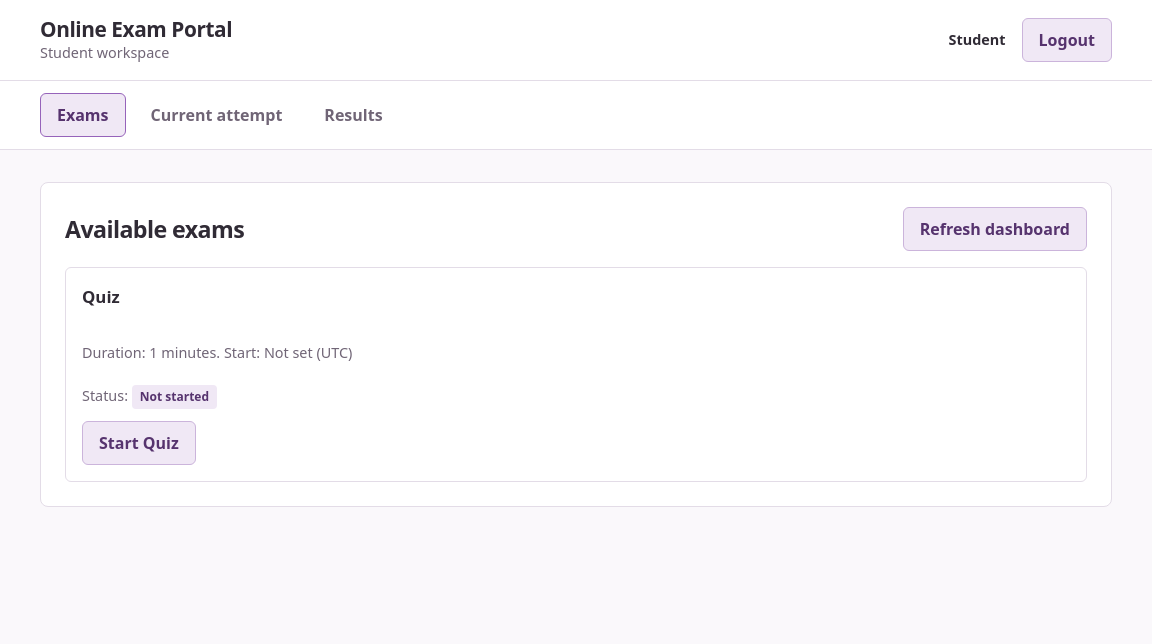
Student acceptance regressions #38 #40 #46 #47 › AC40-RETRY: failed selections are explicitly unsaved and can be retried without pretending they were acknowledged
Click the button "Start Quiz" at (139, 443), box [82, 421, 196, 465]
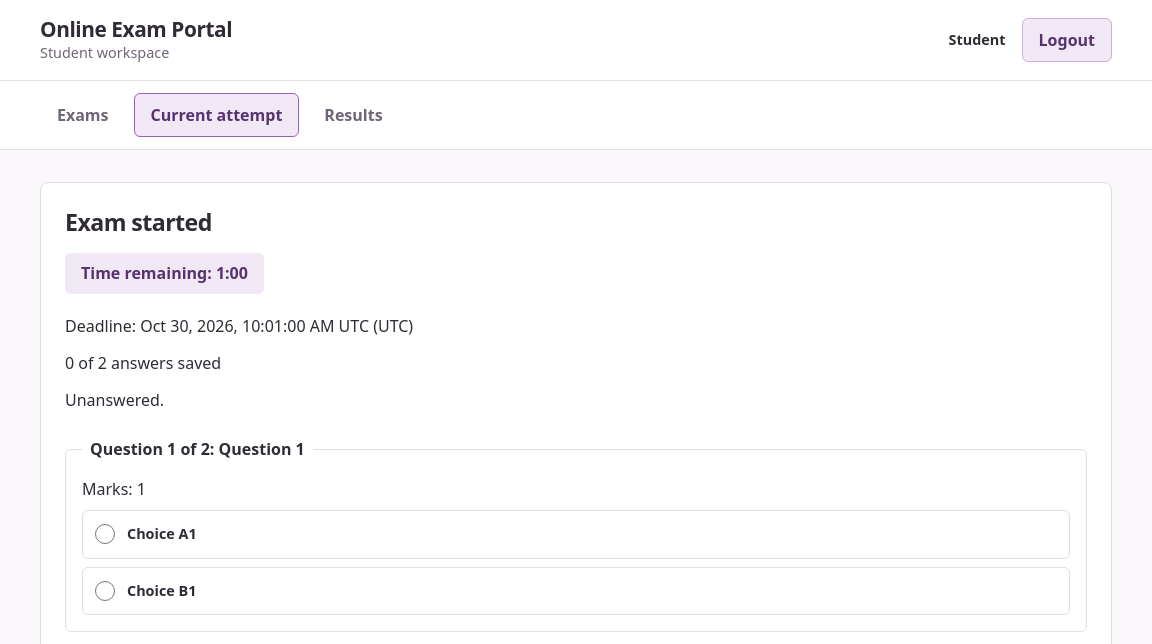
Result: the heading "Exam started" is shown at [65, 206, 212, 238]
Click the radio button labelled "Choice B1" at (105, 591), box [95, 581, 115, 601]
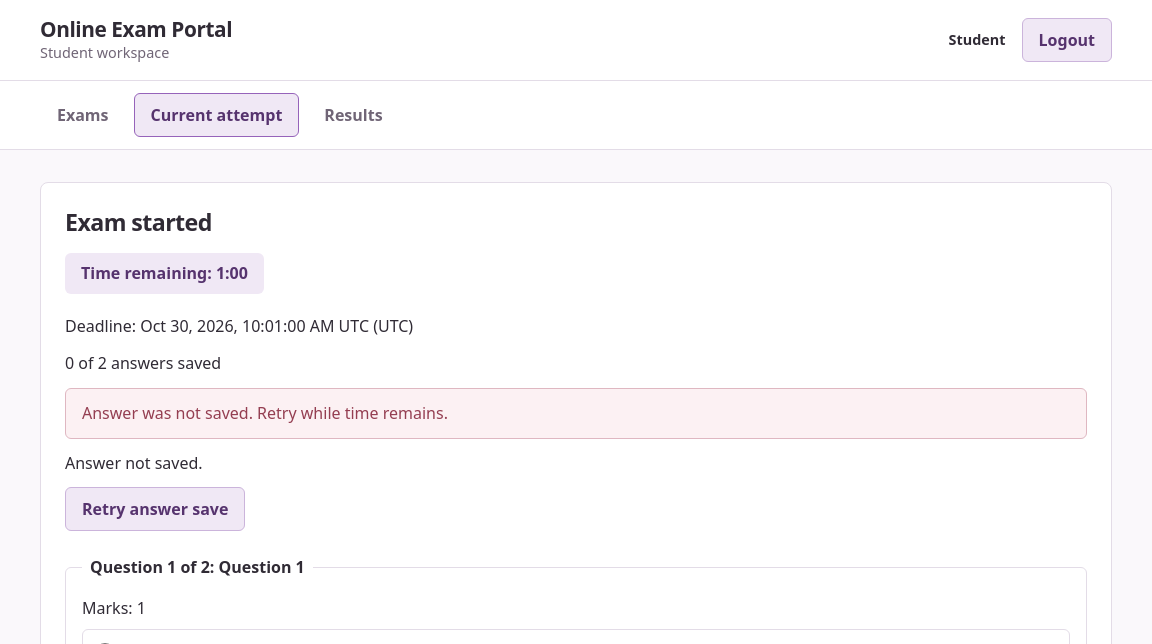
Expected: the text "Answer saved" is not shown
Result: the text "Answer not saved." is shown at [65, 452, 203, 474]
Click the button "Retry answer save" at (155, 510), box [65, 488, 245, 532]
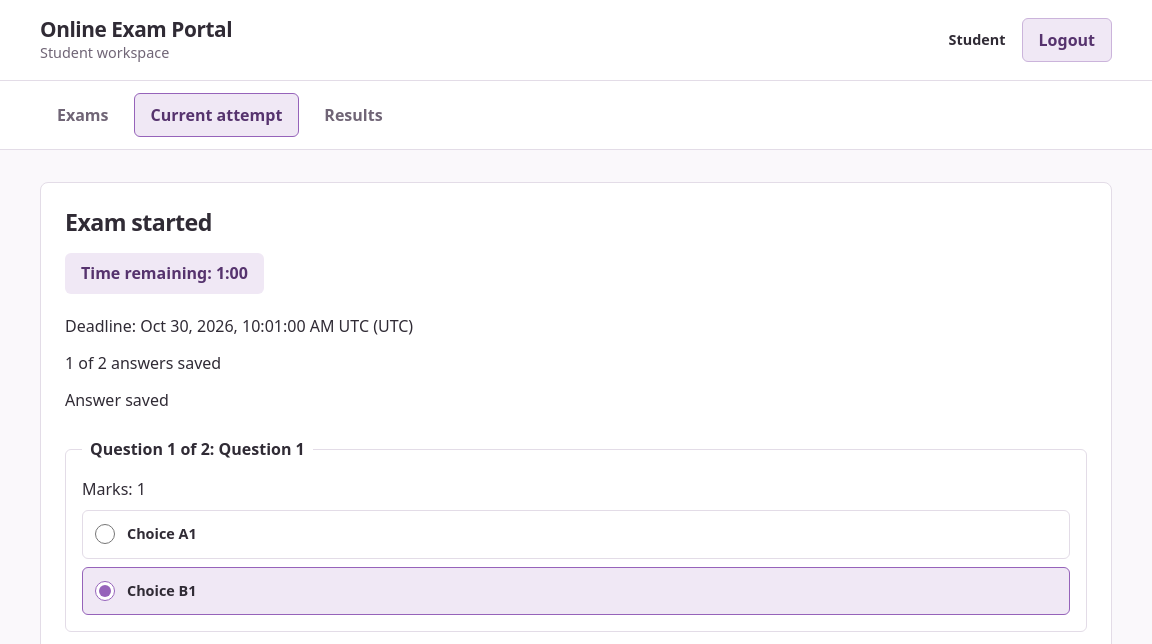
Result: the text "Answer saved" is shown at [65, 389, 169, 411]
Result: the message "Answer was not saved. Retry while time remains." is gone
